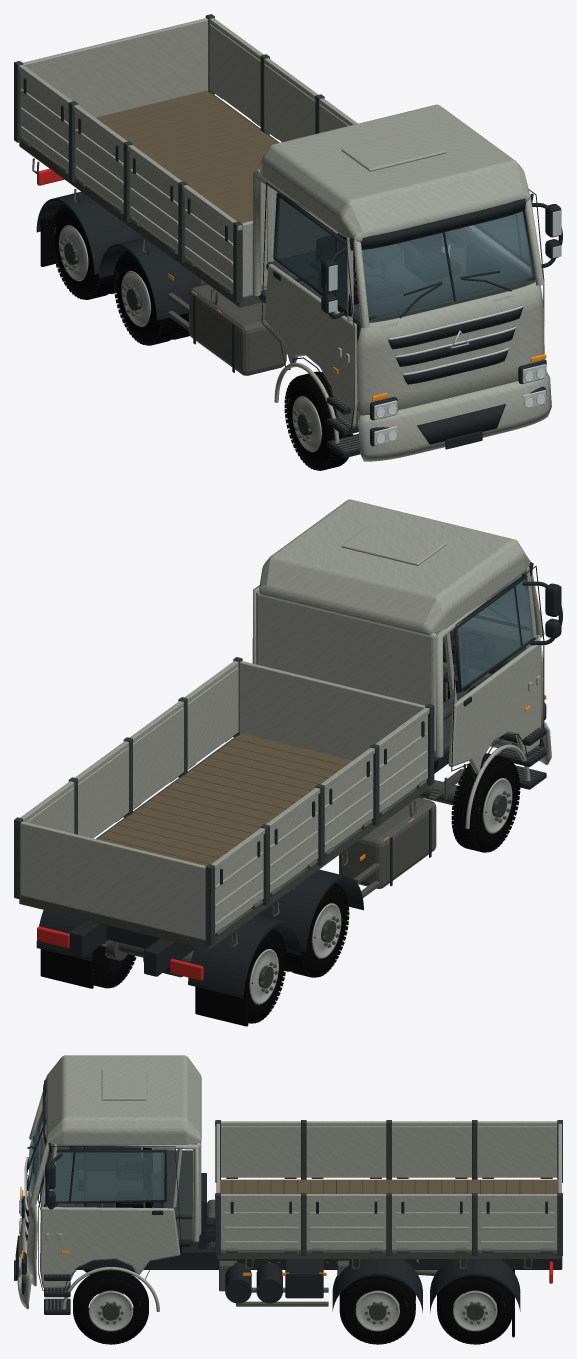
The model's file is howo.glb.
3 renders of one model, top to bottom at view 1: azimuth 30°, elevation 25°; view 2: azimuth 150°, elevation 25°; view 3: azimuth 270°, elevation 25°, orthographic. The views are drawn at different scales.
Parts seen in each view (by area): view 1: cargo, cab_roof, cab_front, cab_glass, service, wheels_-1, door_left, operator, cab_frame, lights, dashboard, door_right; view 2: cargo, cab_roof, service, cab_frame, wheels_-1, door_left, cab_glass, chassis, dashboard, cab_front, wheels_1, lights; view 3: cargo, cab_roof, wheels_1, door_right, service, cab_glass, operator, chassis, cab_frame, cab_front, dashboard, lights (+2 smaller).
Boxes of the visible parts, <box> form: cargo: <box>14,14,357,307</box>; cab_roof: <box>259,104,533,250</box>; cab_front: <box>356,282,551,461</box>; cab_glass: <box>273,192,535,319</box>; service: <box>36,168,286,375</box>; wheels_-1: <box>51,205,353,470</box>; door_left: <box>261,182,359,458</box>; operator: <box>266,231,505,312</box>; cab_frame: <box>252,169,544,345</box>; lights: <box>321,203,562,446</box>; dashboard: <box>345,261,526,340</box>; door_right: <box>450,189,546,364</box>; cargo: <box>14,657,434,949</box>; cab_roof: <box>259,499,533,635</box>; service: <box>36,797,436,1026</box>; cab_frame: <box>252,560,544,770</box>; wheels_-1: <box>246,753,520,1023</box>; door_left: <box>444,565,546,828</box>; cab_glass: <box>454,573,537,692</box>; chassis: <box>69,752,487,982</box>; dashboard: <box>443,627,526,690</box>; cab_front: <box>443,618,551,764</box>; wheels_1: <box>93,941,136,988</box>; lights: <box>522,581,562,746</box>; cargo: <box>215,1120,562,1268</box>; cab_roof: <box>42,1055,201,1152</box>; wheels_1: <box>73,1270,511,1344</box>; door_right: <box>38,1144,182,1314</box>; service: <box>207,1199,552,1337</box>; cab_glass: <box>28,1100,167,1203</box>; operator: <box>82,1146,193,1219</box>; chassis: <box>76,1218,562,1291</box>; cab_frame: <box>29,1091,201,1253</box>; cab_front: <box>14,1141,37,1309</box>; dashboard: <box>45,1146,124,1207</box>; lights: <box>19,1080,68,1294</box>.
Size of the model in its own units: 3.09 by 3.57 by 7.88.
Materials: 19 (3 with a texture image).
